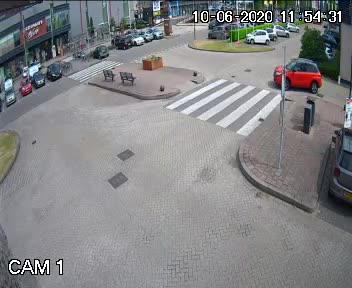car: (263, 51, 322, 95)
